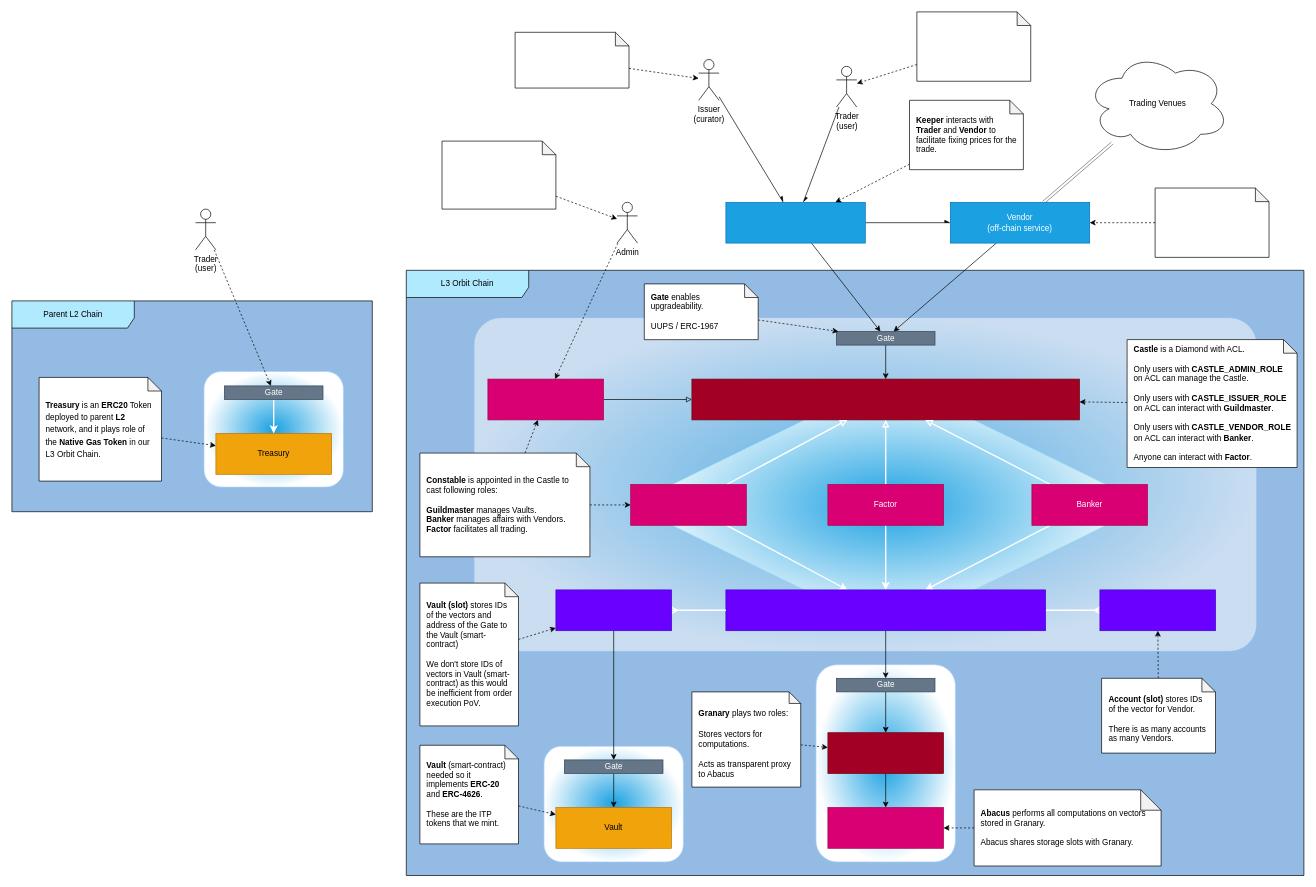
This 1316x887 diagram has some shape labels left out. The centre of each missing label's shape, as x and y in pixels:
"Abacus" goes at (885,827).
"Account (storage slot)" goes at (1157,610).
"Admin administrates Castle construction and any future upgrades." goes at (498,174).
"Castle" goes at (885,399).
"Constable" goes at (545,399).
"Granary" goes at (885,753).
"Guildmaster" goes at (688,504).
"Issuer proposes new Index Token." goes at (571,60).
"Keep (storage slot)" goes at (885,610).
"Keeper (off-chain service)" goes at (795,222).
"Trader is regular user who wants to buy or sell Index Token." goes at (973,46).
"Vault (storage slot)" goes at (613,610).
"Vendor supplies market data and assets into the system." goes at (1211,222).
